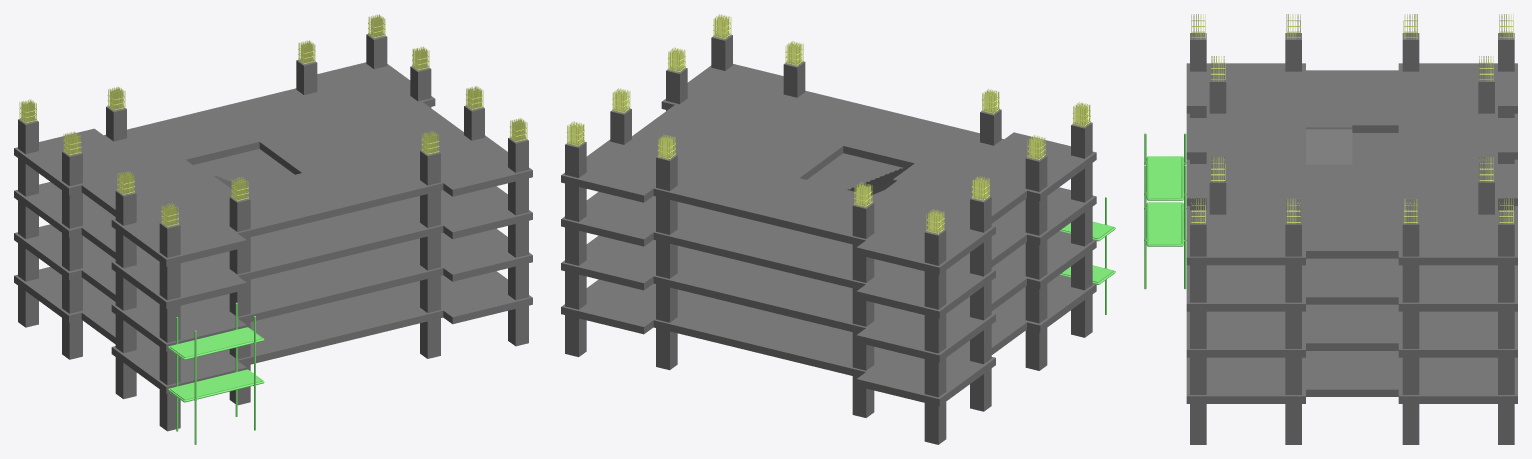
Rendered from 철근건물.fbx.
3 views of the same model, side by side, from view 1: azimuth 30°, elevation 25°; view 2: azimuth 150°, elevation 25°; view 3: azimuth 270°, elevation 25° (orthographic). The views are drawn at different scales.
Visible parts, largest first — view 1: 계단, 철근 기둥, 철다리; view 2: 계단, 철근 기둥, 철다리; view 3: 계단, 철다리, 철근 기둥.
Part boxes in pixels (bbox=[...]): 계단: bbox=[14, 33, 532, 431]; 철근 기둥: bbox=[19, 14, 527, 227]; 철다리: bbox=[167, 302, 264, 444]; 계단: bbox=[561, 34, 1096, 444]; 철근 기둥: bbox=[566, 14, 1090, 234]; 철다리: bbox=[1059, 197, 1115, 314]; 계단: bbox=[1186, 33, 1517, 444]; 철다리: bbox=[1144, 133, 1186, 289]; 철근 기둥: bbox=[1191, 14, 1513, 223].
Bounding box in the file's own units: 54.33 × 31.18 × 44.06.
